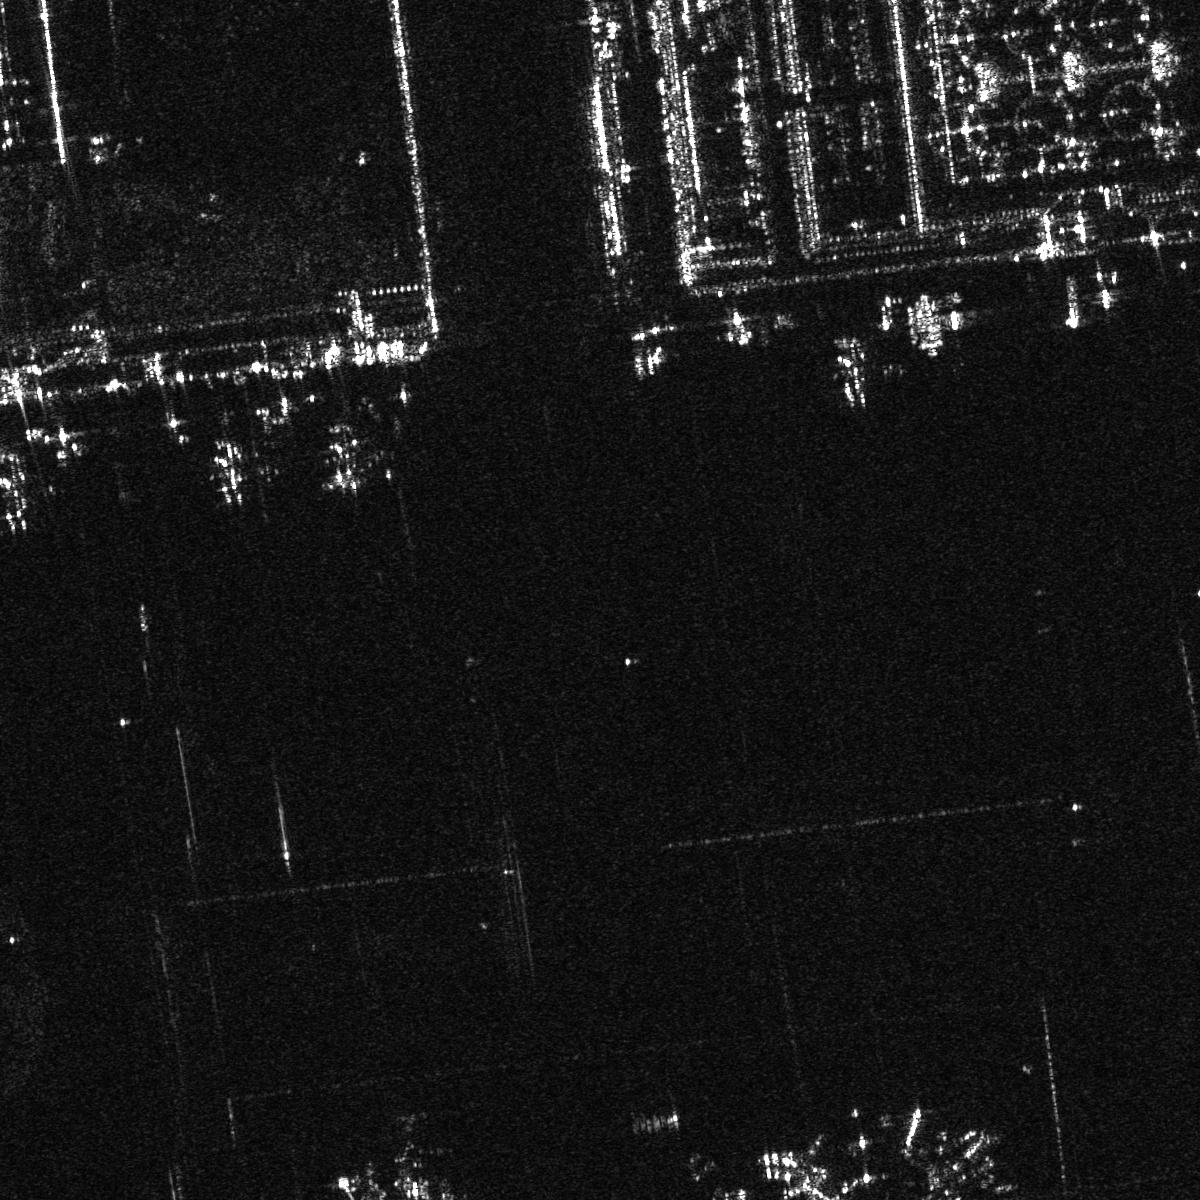Boeing787: (811, 331, 895, 409), (195, 432, 264, 505), (316, 423, 376, 493)
